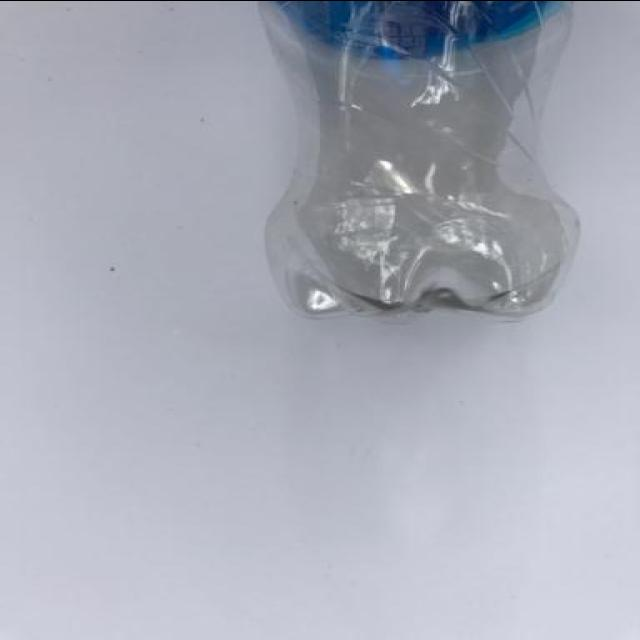litter: (248, 1, 594, 332)
